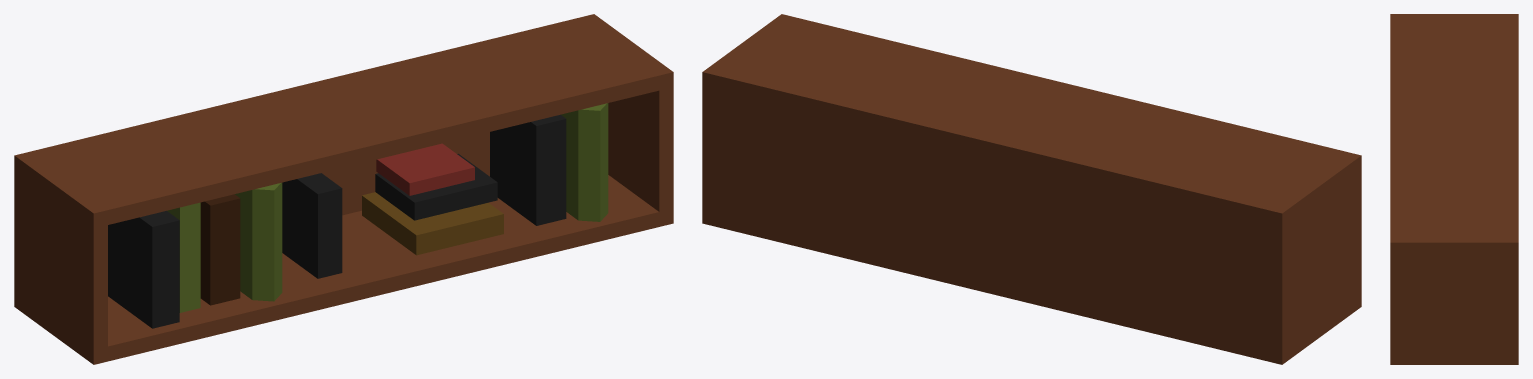
Rendered from SingleBookshelf.fbx.
The picture shows the model from 3 angles, left to right: view 1: azimuth 30°, elevation 25°; view 2: azimuth 150°, elevation 25°; view 3: azimuth 270°, elevation 25°; orthographic projection. The views are drawn at different scales.
Parts seen in each view (by area): view 1: SingleBookshelf; view 2: SingleBookshelf; view 3: SingleBookshelf.
Part boxes in pixels (box(x1,y1,x2,y2)): SingleBookshelf: box(14, 14, 673, 364); SingleBookshelf: box(702, 14, 1361, 364); SingleBookshelf: box(1390, 14, 1518, 364).
Bounding box in the file's own units: 316 × 78.88 × 74.93.
